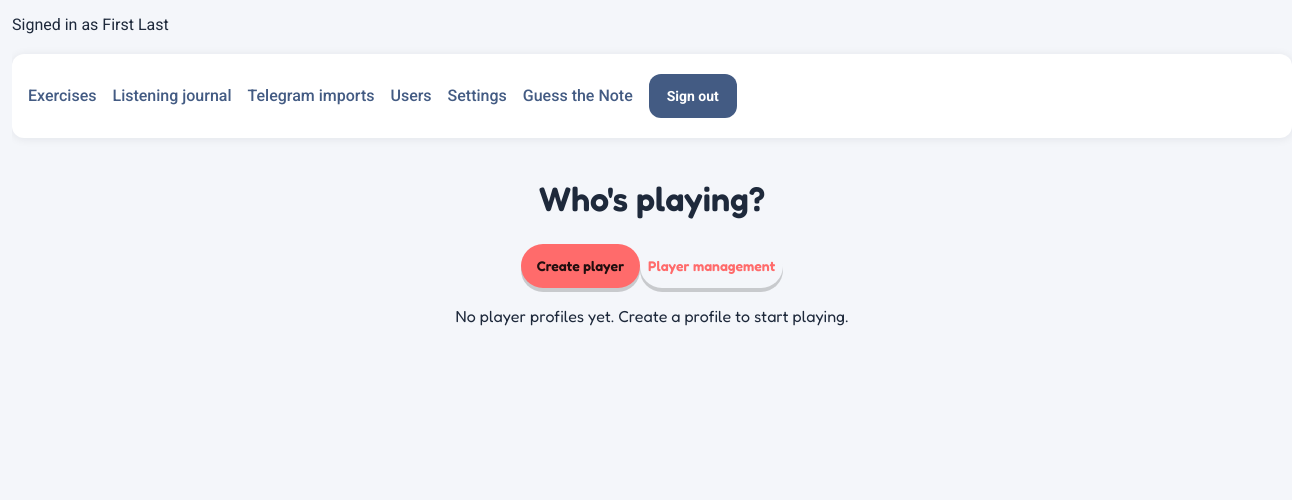
Scenario: clears cached game profiles when signing out
Click the button "Sign out".
click(693, 96)  # box left=649, top=74, right=737, bottom=118
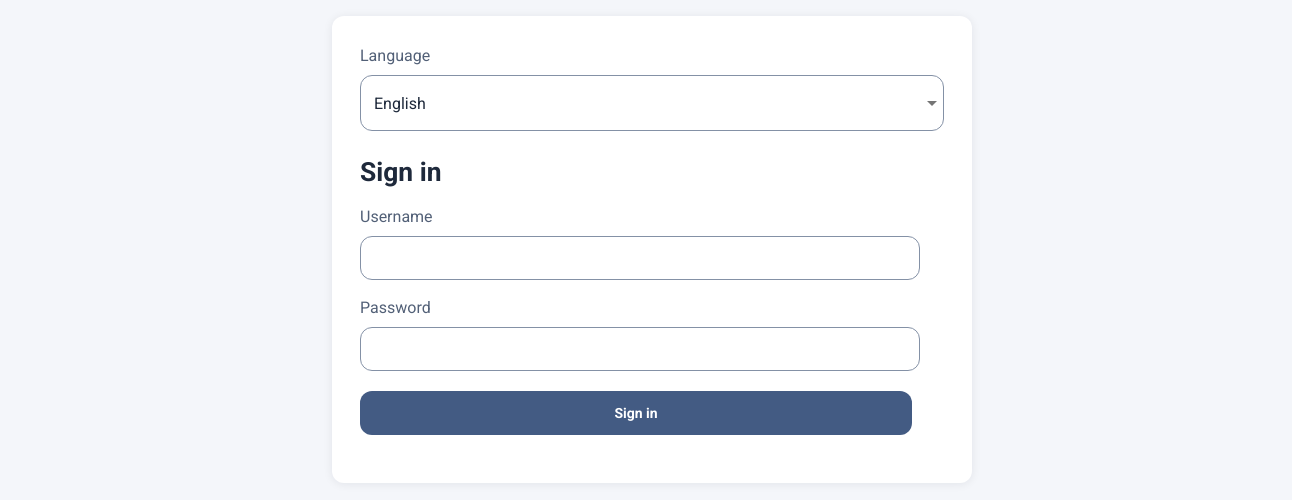
Check: the button "Sign in" is shown, box left=360, top=391, right=912, bottom=435
